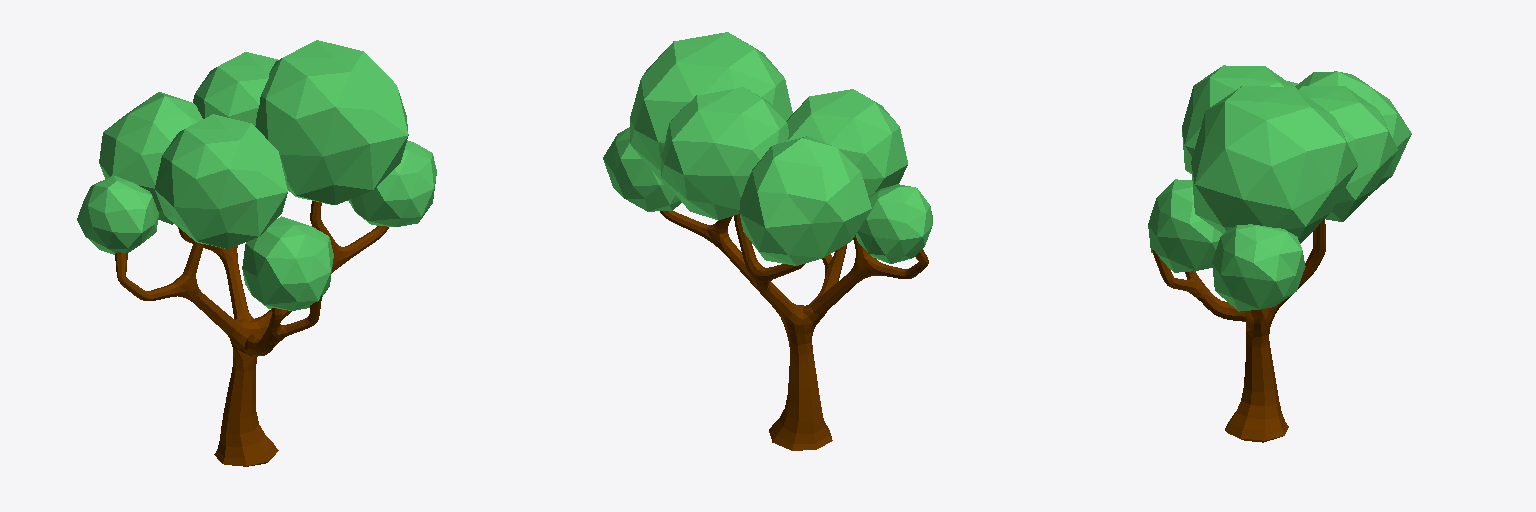
3 renders of one model, left to right at view 1: azimuth 30°, elevation 25°; view 2: azimuth 150°, elevation 25°; view 3: azimuth 270°, elevation 25°, orthographic.
Parts seen in each view (by area): view 1: Icosphere.001; view 2: Icosphere.001; view 3: Icosphere.001.
Boxes of the visible parts, x1=… form: Icosphere.001: x1=77, y1=40, x2=436, y2=466; Icosphere.001: x1=603, y1=32, x2=932, y2=450; Icosphere.001: x1=1148, y1=65, x2=1411, y2=442.
Bounding box in the file's own units: 7.84 × 8.41 × 5.36.
1 materials, 1 textured.